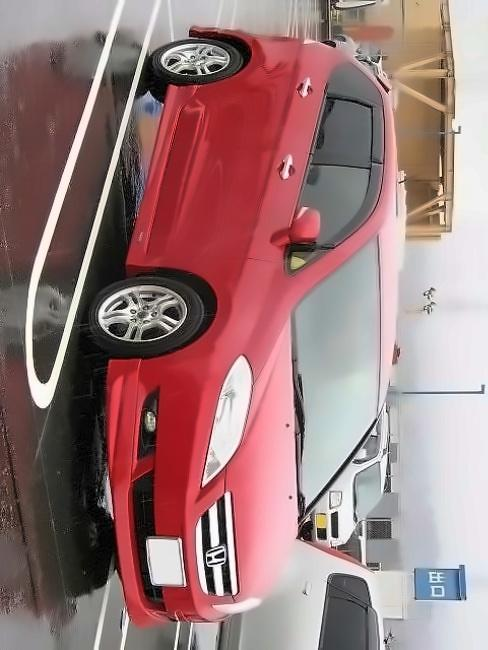Car hood: (234, 314, 302, 610)
Driver-s door - -F-R-: (133, 145, 392, 273)
Fender - -F-R-: (138, 239, 314, 378)
Fender - -R-R-: (197, 25, 363, 95)
Front bumper: (98, 341, 229, 626)
Headlight - -R-: (195, 350, 261, 492)
Passenger-s door - -R-R-: (137, 66, 397, 176)
Side bumper - -R-: (118, 71, 207, 277)
Side mirror - -R-: (271, 204, 323, 255)
